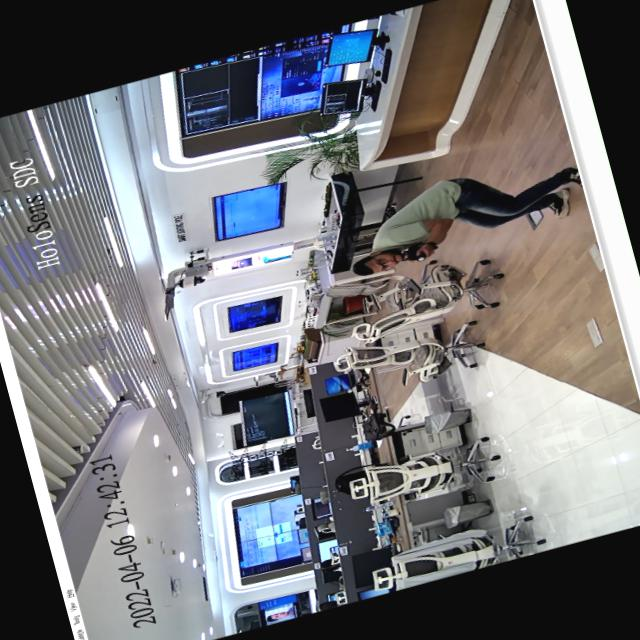long weapon: (394, 234, 442, 268)
